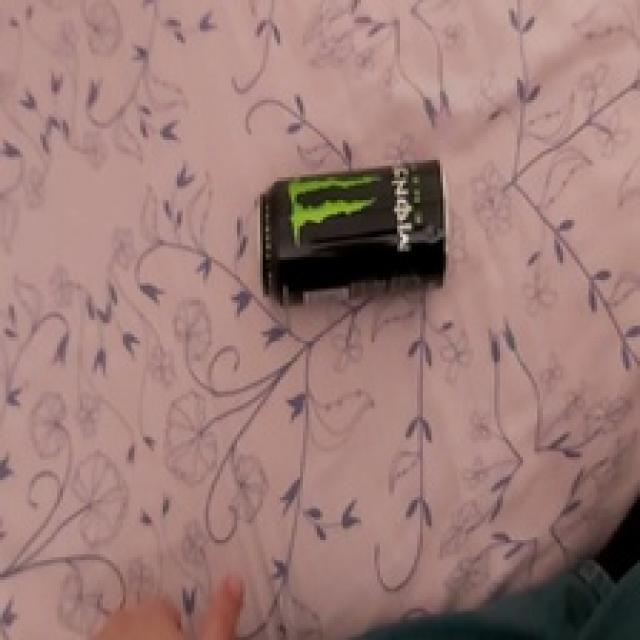recyclable: (256, 160, 450, 306)
